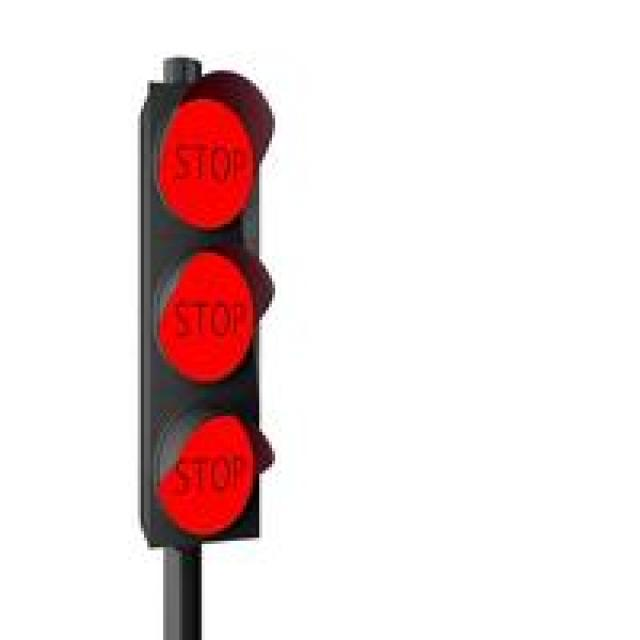red_light: (120, 69, 328, 238), (133, 83, 331, 242)
